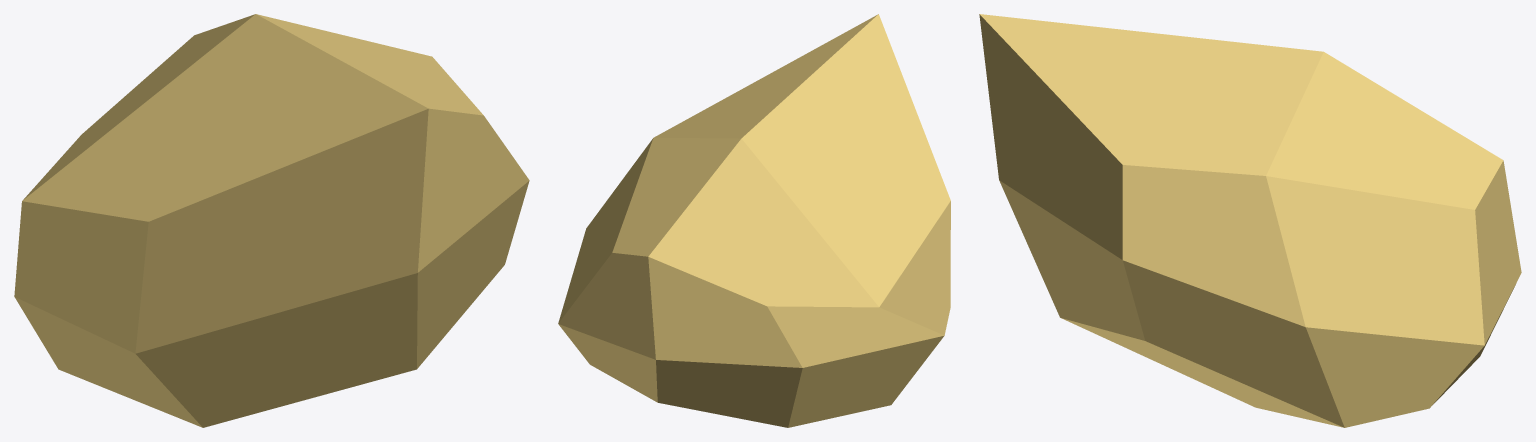
Rendered from Kamien2.fbx.
3 renders of one model, left to right at view 1: azimuth 30°, elevation 25°; view 2: azimuth 150°, elevation 25°; view 3: azimuth 270°, elevation 25°, orthographic. The views are drawn at different scales.
Visible parts, largest first — view 1: Kostka; view 2: Kostka; view 3: Kostka.
Part boxes in pixels (bbox=[...]): Kostka: bbox=[14, 14, 529, 427]; Kostka: bbox=[558, 14, 950, 427]; Kostka: bbox=[979, 14, 1521, 427].
Bounding box in the file's own units: 191 × 150 × 194.
